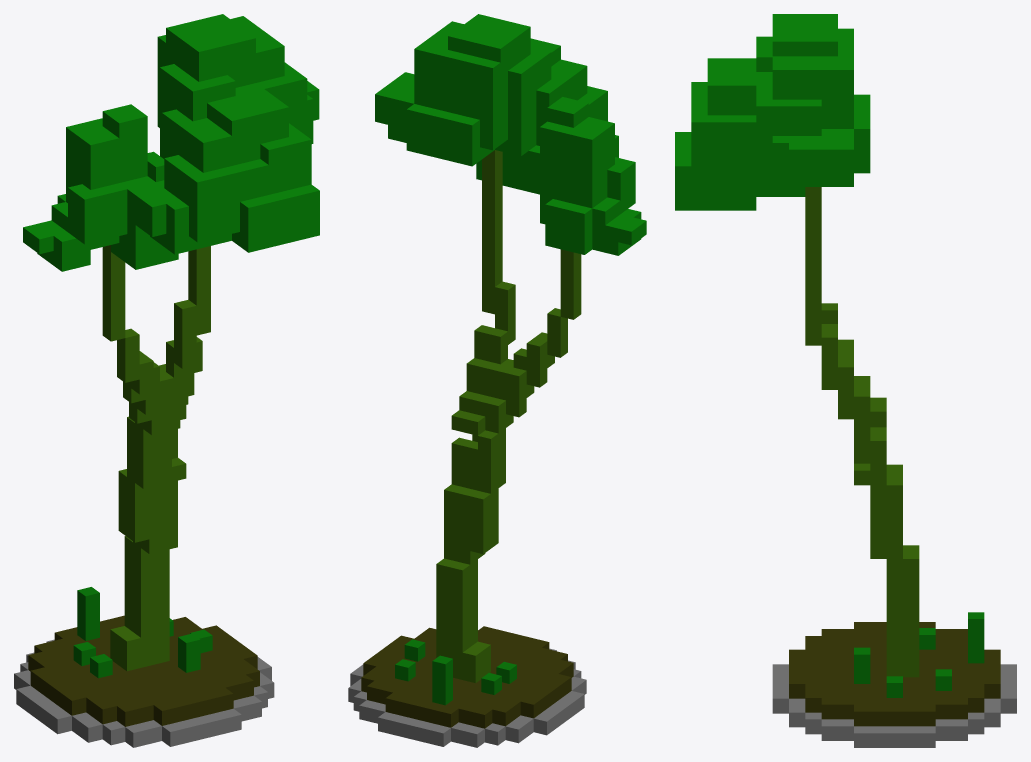
The model's file is treeOne.glb.
The picture shows the model from 3 angles, left to right: view 1: azimuth 30°, elevation 25°; view 2: azimuth 150°, elevation 25°; view 3: azimuth 270°, elevation 25°; orthographic projection. The views are drawn at different scales.
Visible parts, largest first — view 1: ObjObject; view 2: ObjObject; view 3: ObjObject.
Boxes of the visible parts, box(x1,y1,x2,y2) form: ObjObject: box(14, 14, 319, 747); ObjObject: box(348, 14, 646, 747); ObjObject: box(675, 14, 1016, 747).
Size of the model in its own units: 1.9 by 4.6 by 2.1.
1 material, 1 textured.
